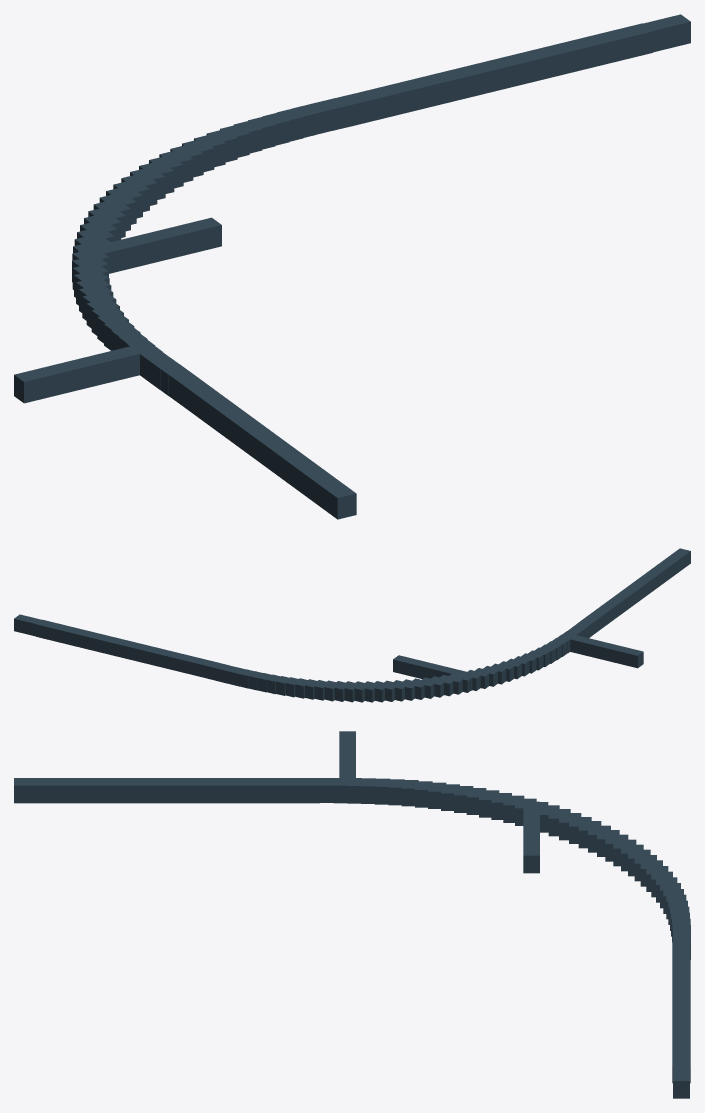
Rendered from v02-transit-world-01-03-01.glb.
The picture shows the model from 3 angles, top to bottom: view 1: azimuth 30°, elevation 25°; view 2: azimuth 150°, elevation 25°; view 3: azimuth 270°, elevation 25°; orthographic projection. The views are drawn at different scales.
Visible parts, largest first — view 1: v02-transit-world-01-03-01; view 2: v02-transit-world-01-03-01; view 3: v02-transit-world-01-03-01.
Part boxes in pixels (<box>): v02-transit-world-01-03-01: <box>14,14,690,519</box>; v02-transit-world-01-03-01: <box>14,548,690,702</box>; v02-transit-world-01-03-01: <box>14,731,690,1098</box>.
Bounding box in the file's own units: 59.5 × 1.4 × 48.68.
